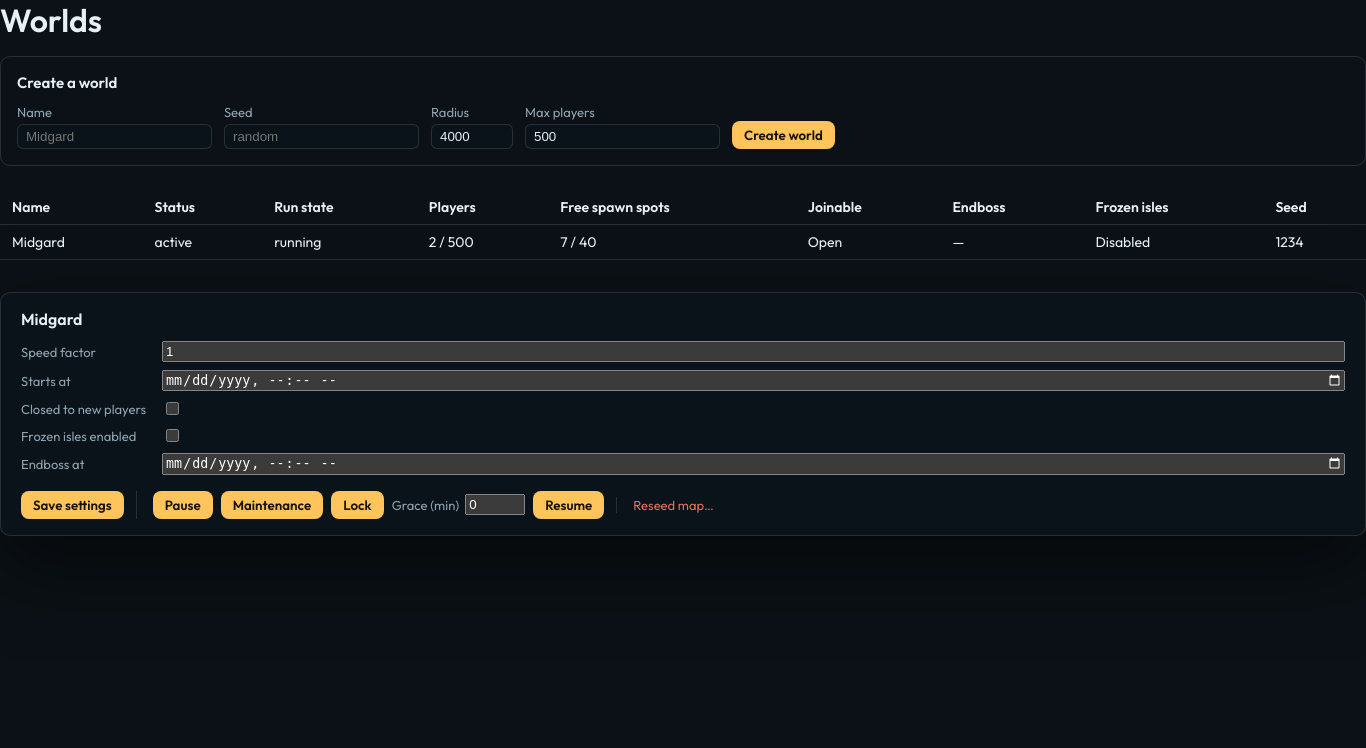
Test: AdminWorldsView › creates a world and adds it to the list
Type "Alfheim" into the field labelled "Name" at (114, 136), box 17,124 -> 212,149
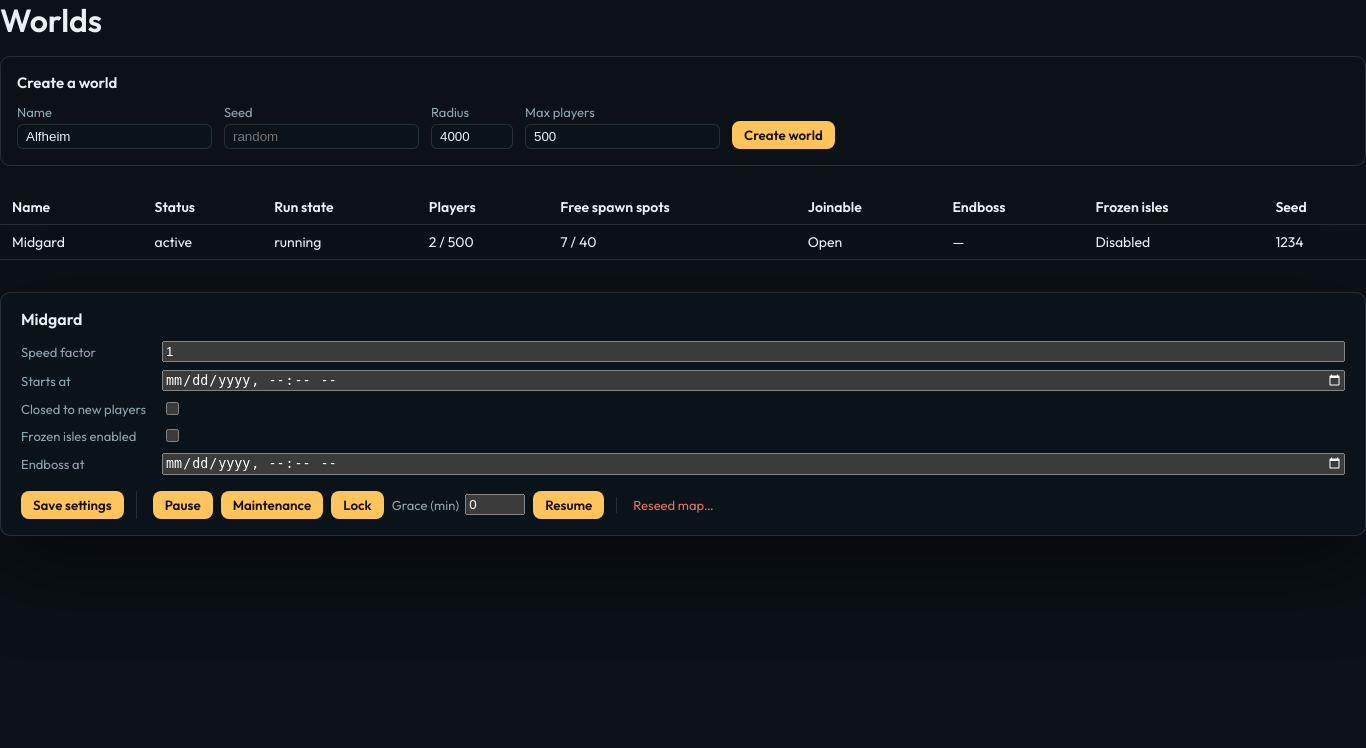
Type "77" into the number field labelled "Seed" at (322, 136), box 224,124 -> 419,149
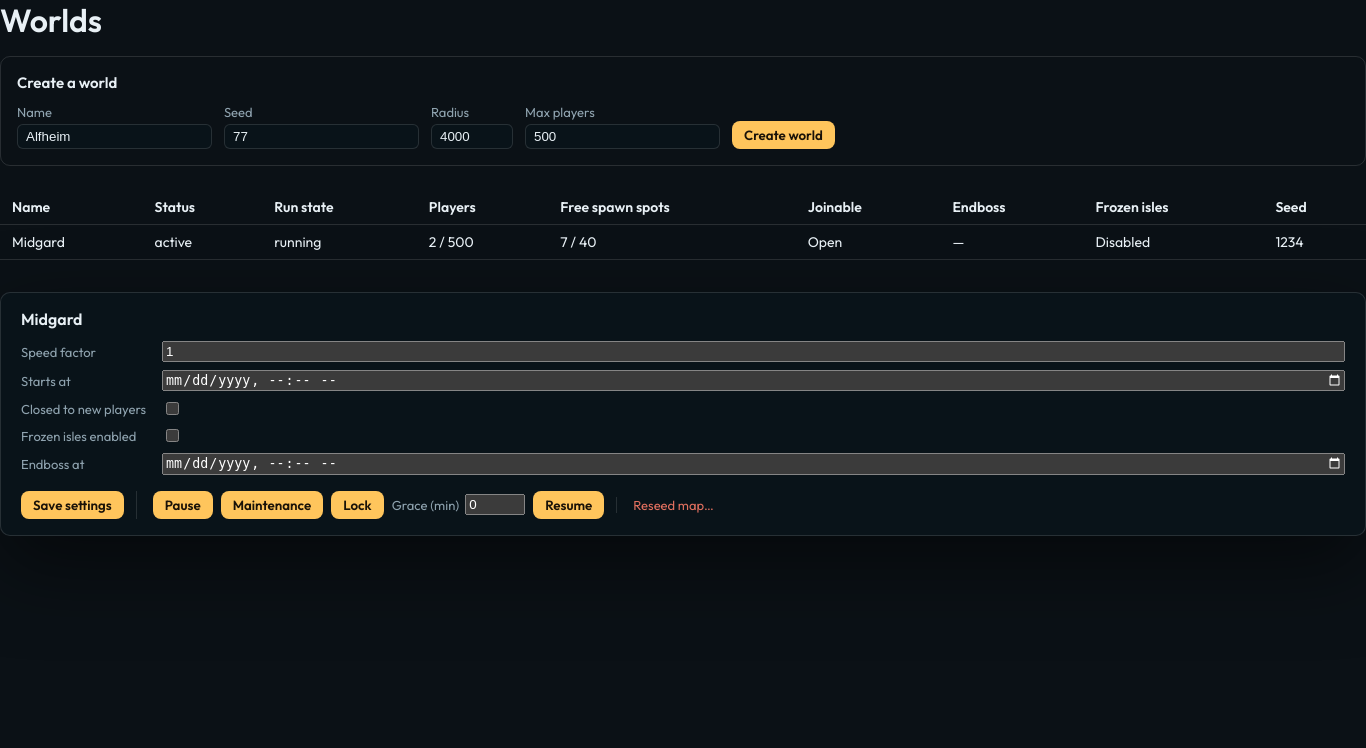
Replace the text in the number field labelled "Max players" with "200" at (622, 136), box 525,124 -> 720,149
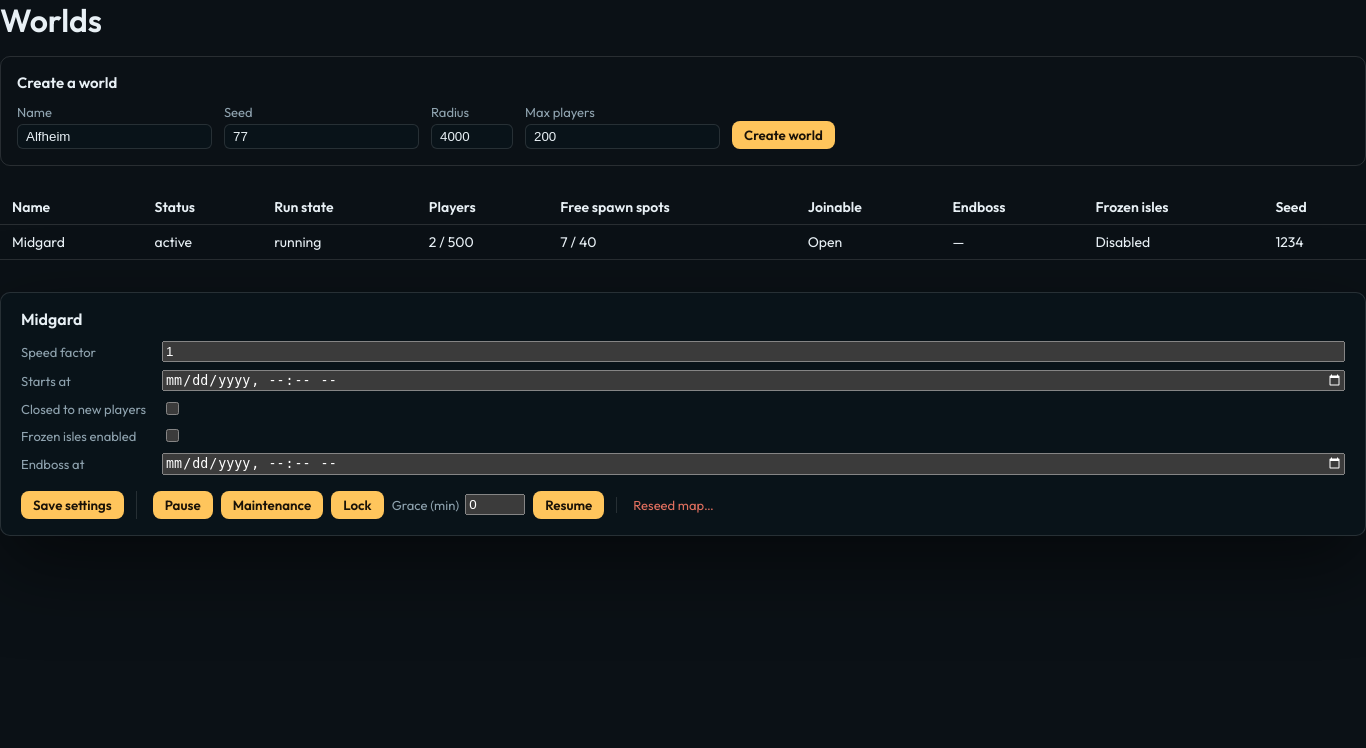
Submit the form with class "create", box 0,56 -> 1365,166
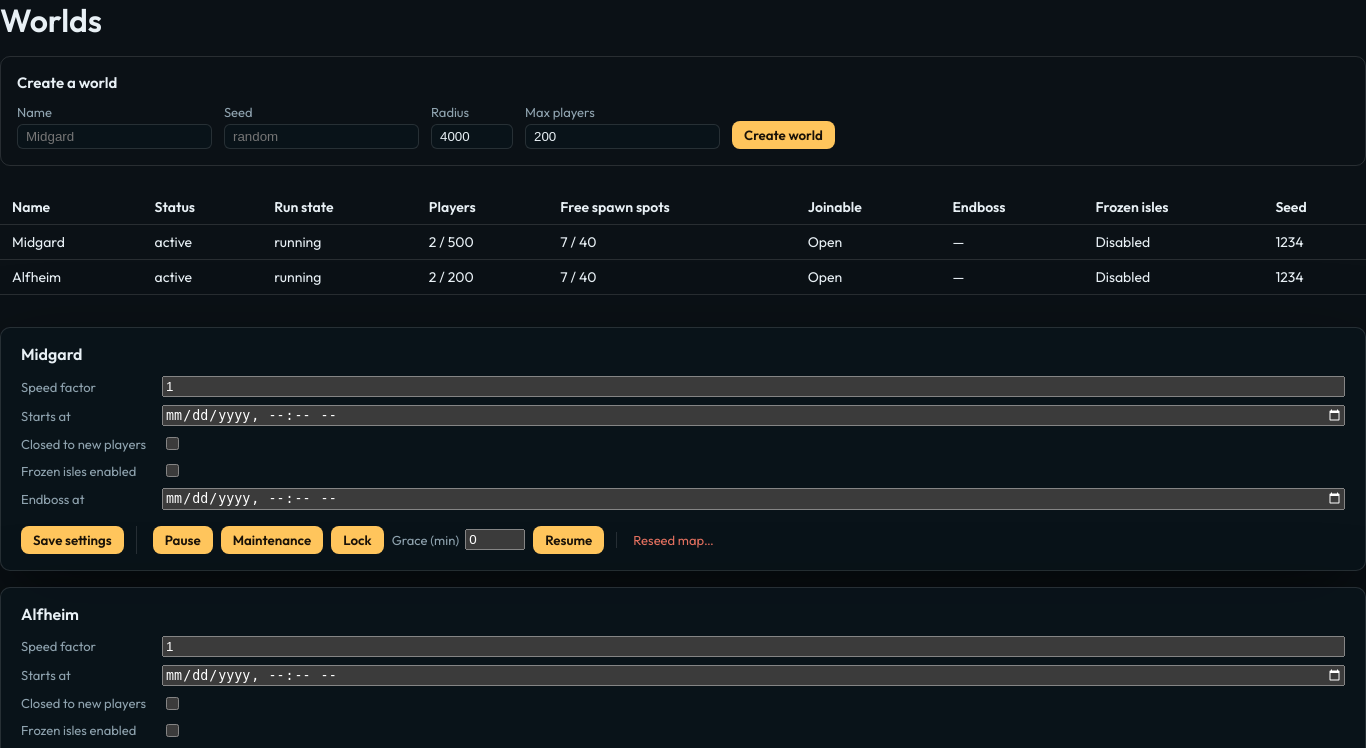
Check: the text "Alfheim" is shown, box 0,260 -> 142,294
